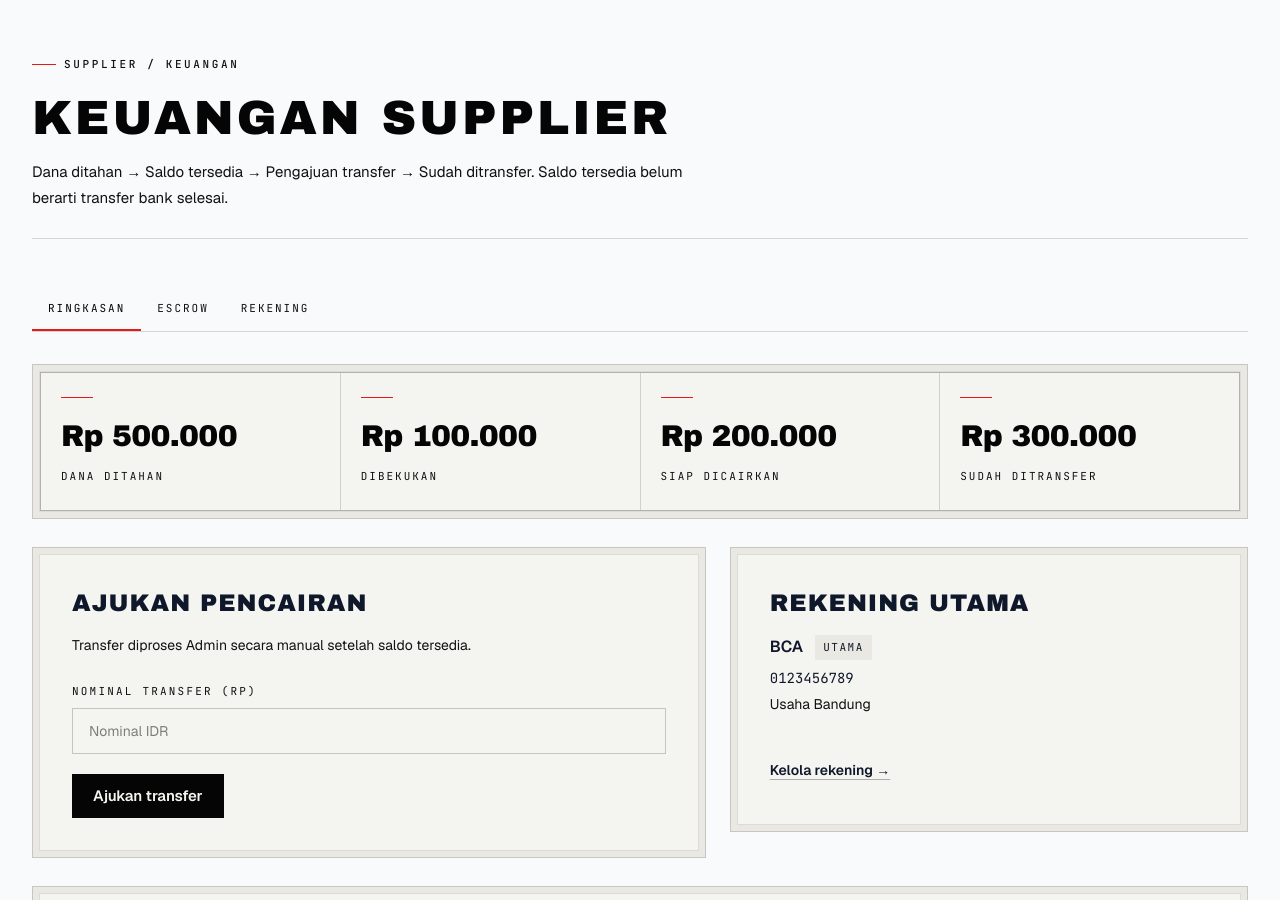
Test: Supplier finance route views › keeps the payout amount and dialog when the server reports insufficient balance
Type "500000" into the number field labelled "Nominal transfer (Rp)".
click(369, 731); type("500000")  # box [72,708,666,754]
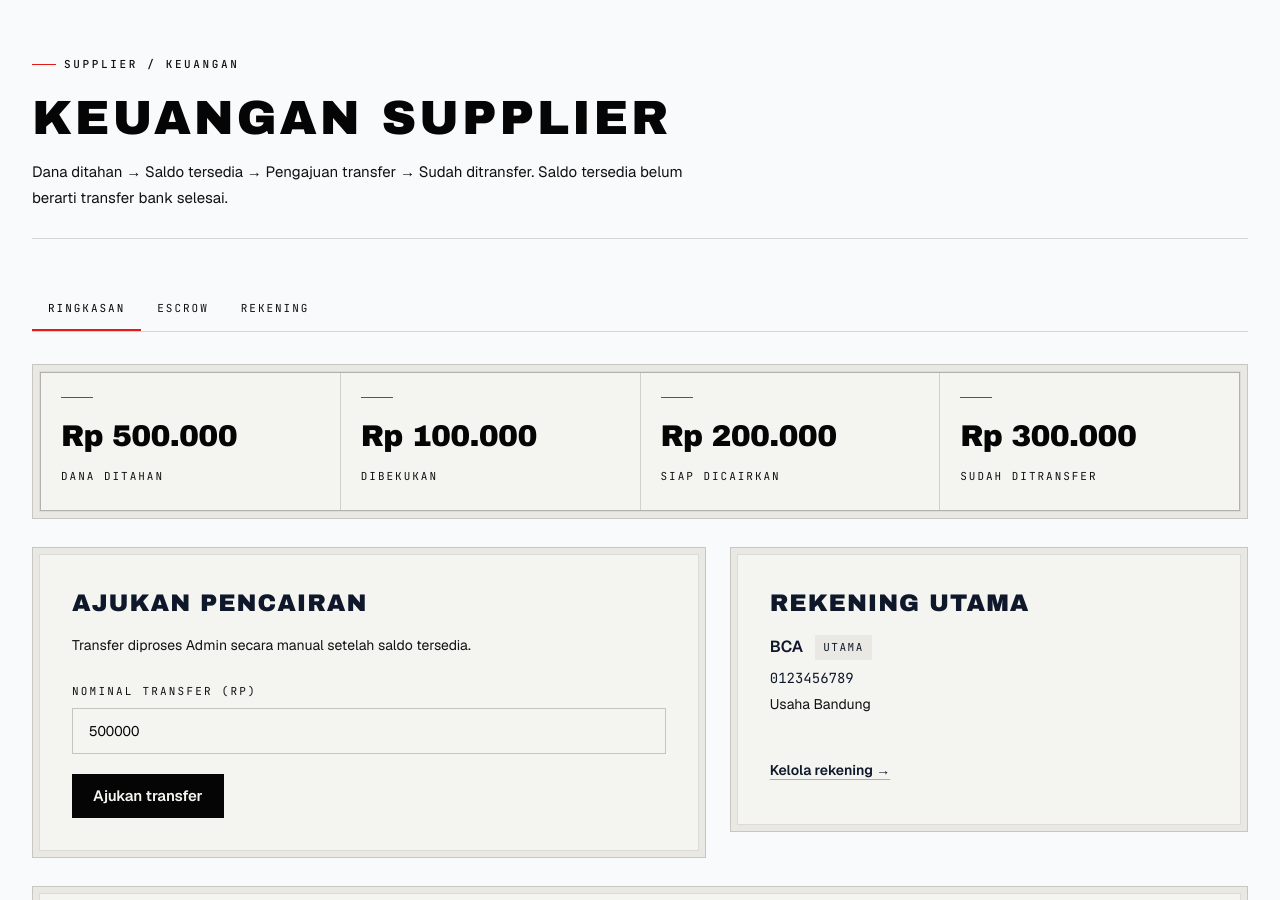
Click the button "Ajukan transfer".
click(148, 796)  # box [72,774,224,818]
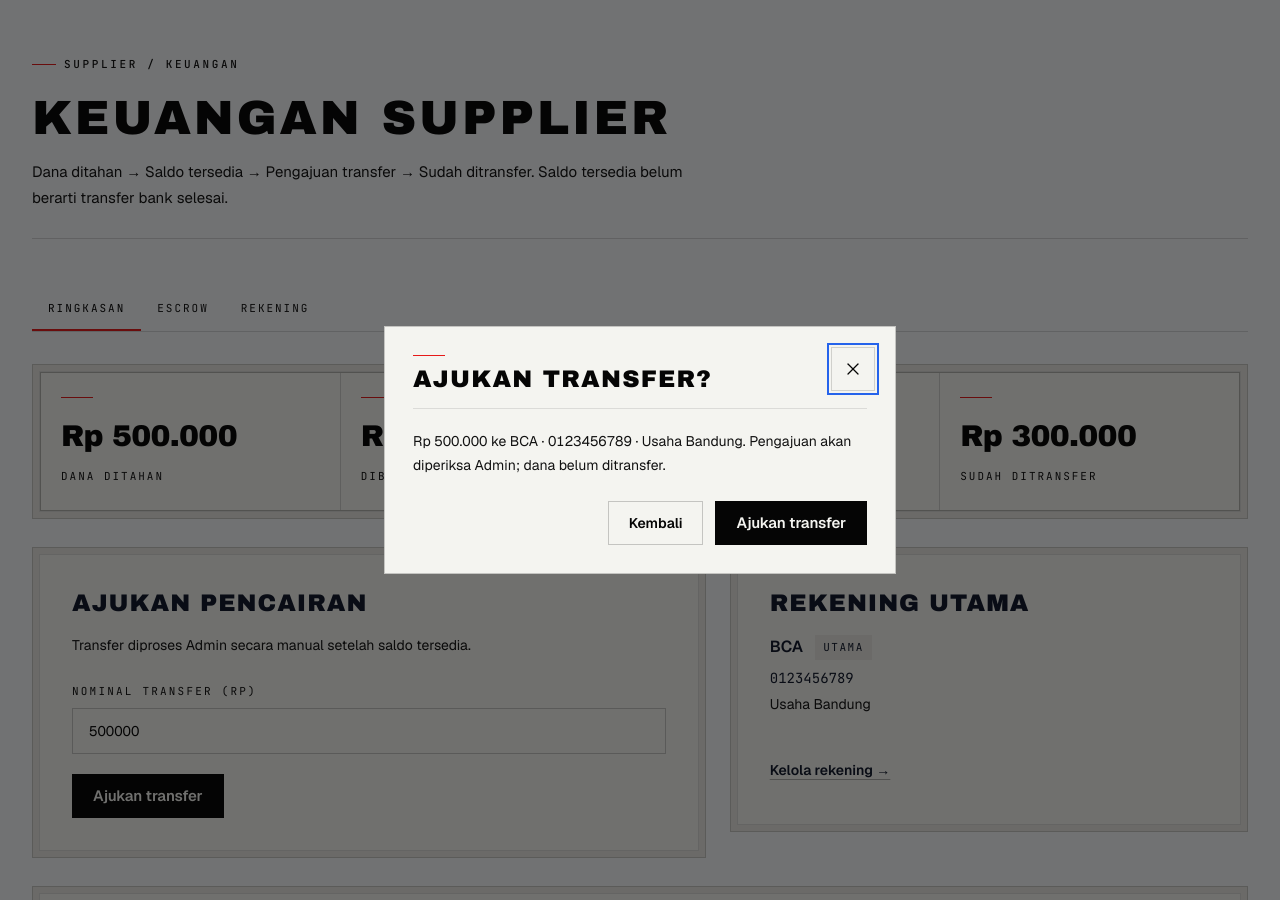
Click the button "Ajukan transfer".
click(791, 523)  # box [716,500,867,545]
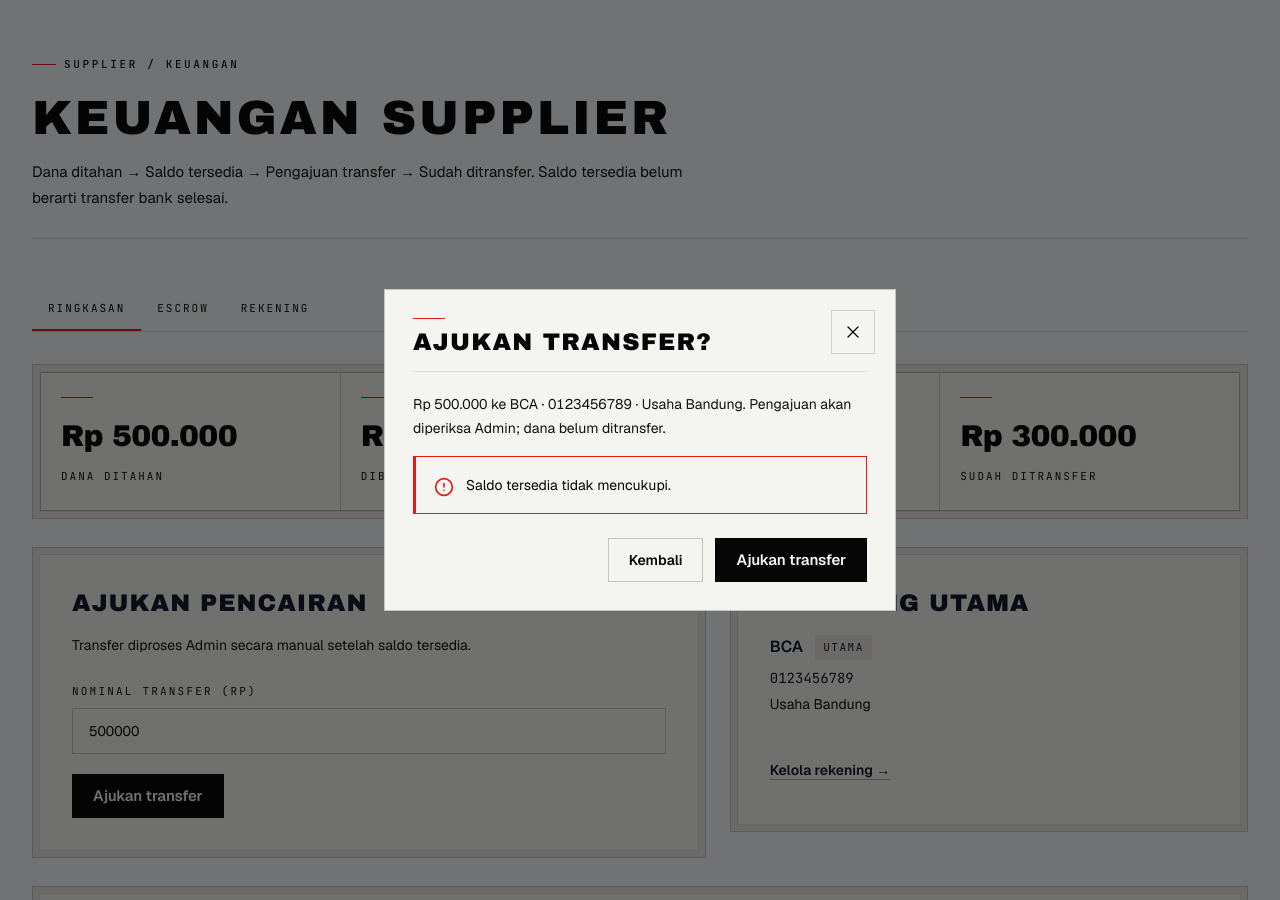
Expected: the dialog is shown, [384,289,896,611]
Expected: the message reads "Saldo tersedia tidak mencukupi.", [466,476,671,494]
